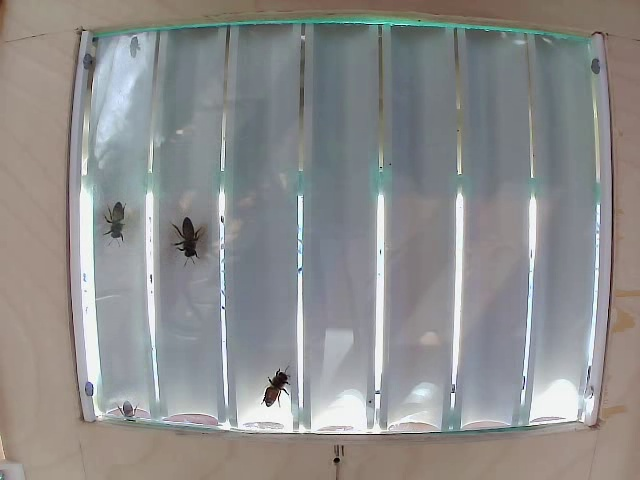bee: (158, 205, 212, 272), (82, 197, 137, 248), (257, 369, 294, 415)
